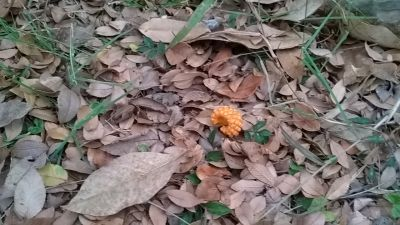eggs: (211, 104, 243, 137)
